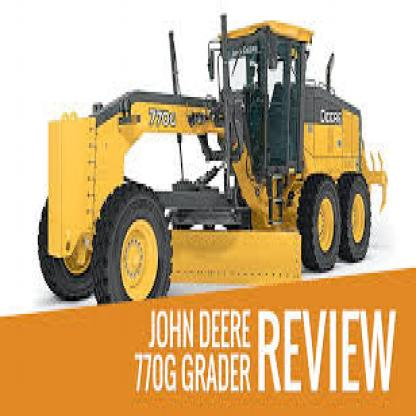bull_dozer/loader/grader: (27, 7, 400, 332)
